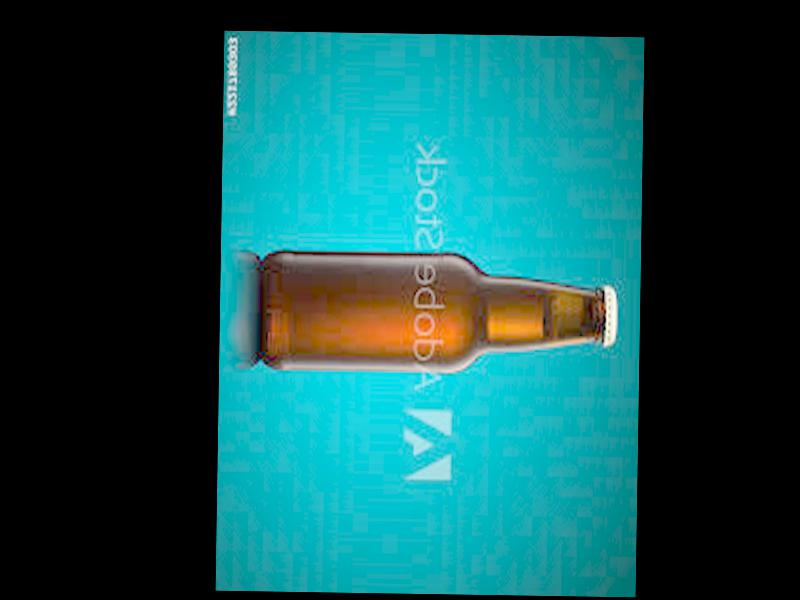Beer: (257, 247, 618, 375)
